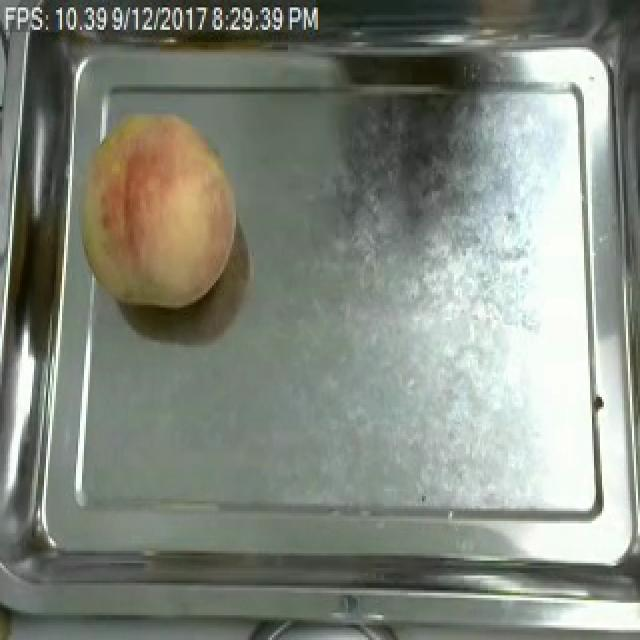Fruit: (60, 97, 248, 320)
